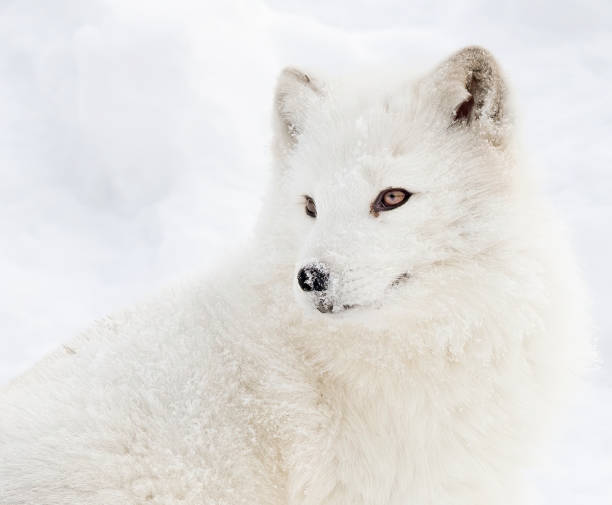arcticfox: (263, 68, 502, 351)
